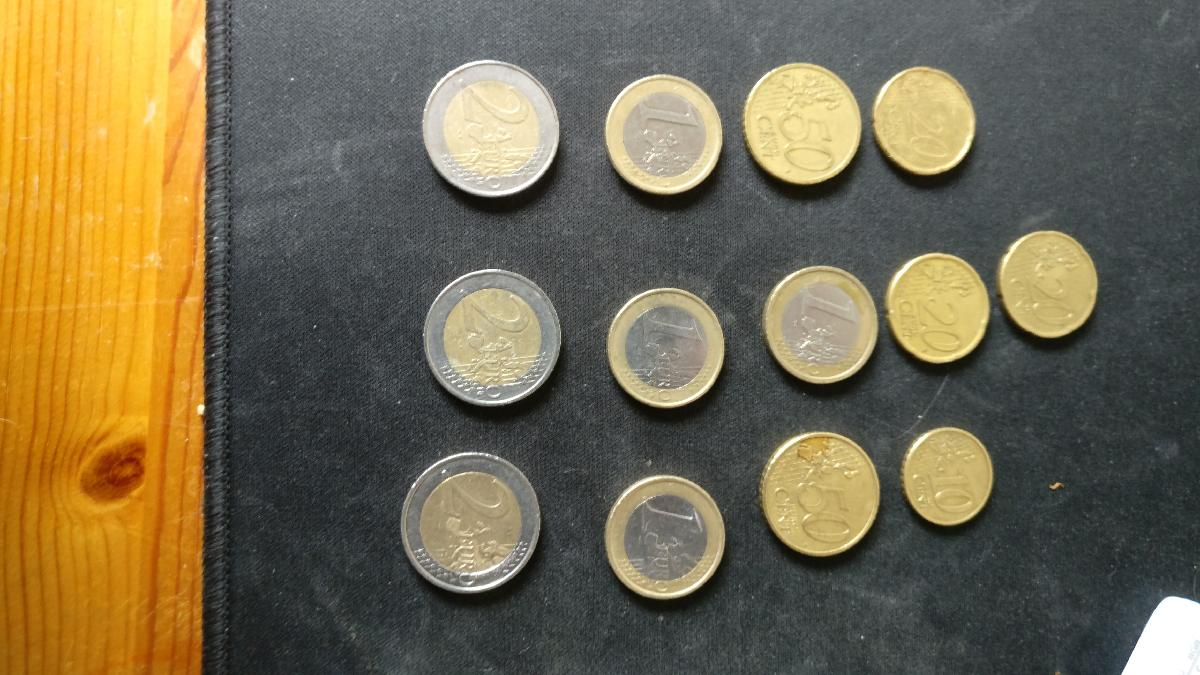Fifty Cent: (757, 432, 884, 555), (742, 61, 864, 182)
One Euro: (606, 474, 730, 598), (608, 286, 725, 404), (607, 78, 721, 194), (769, 265, 878, 381)
Ten Cent: (909, 424, 995, 528)
Twenty Cent: (874, 67, 979, 179), (888, 252, 991, 366), (998, 230, 1096, 337)
Two Euro: (399, 448, 546, 594), (425, 266, 562, 407), (423, 60, 562, 198)
